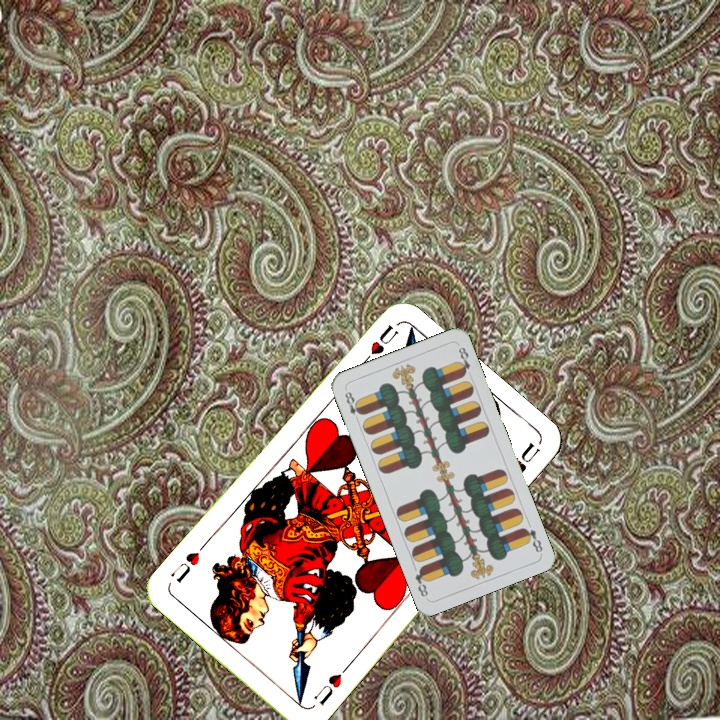E8: (341, 386, 365, 425), (518, 524, 545, 555)
HU: (356, 320, 401, 369), (309, 661, 352, 709)
